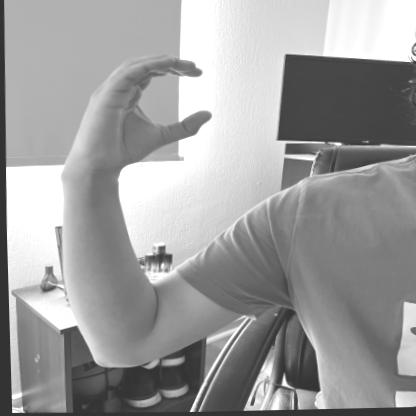C: (68, 47, 224, 177)
